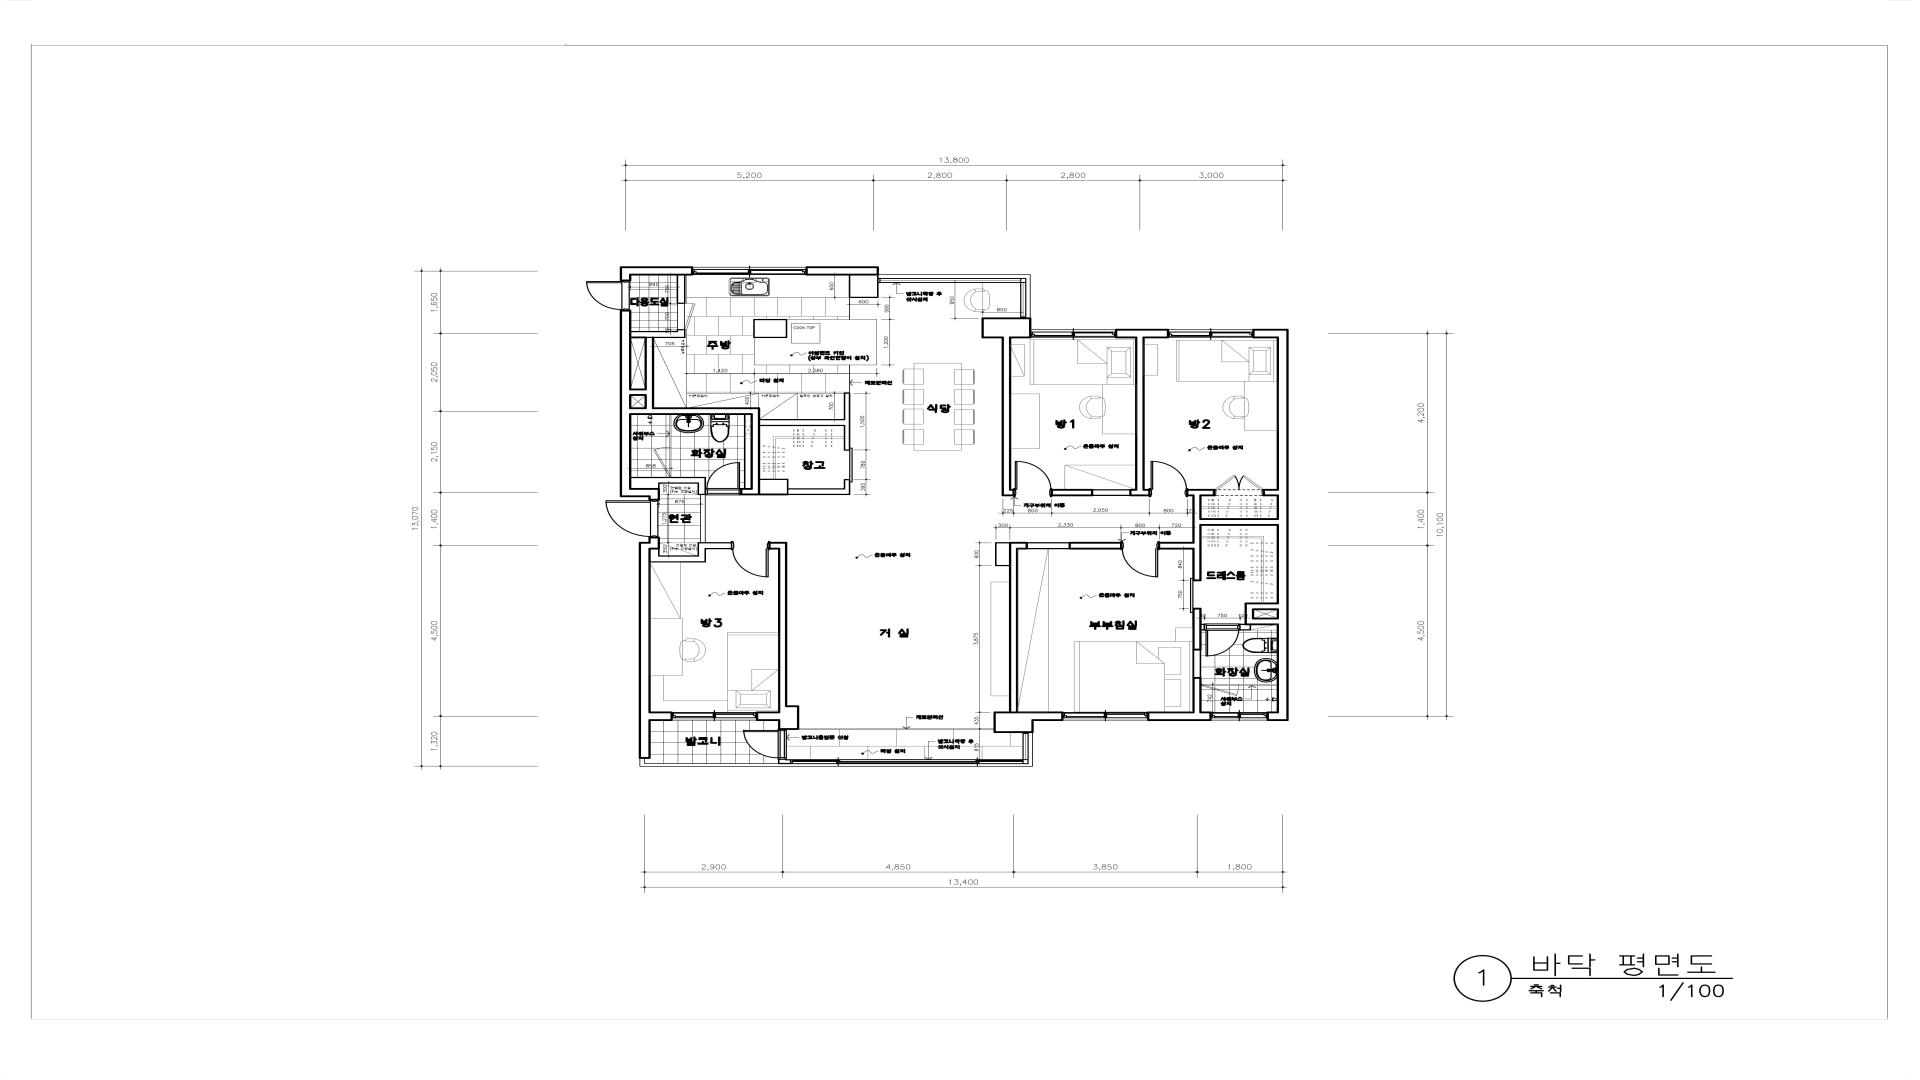door: (605, 500, 658, 537), (1014, 460, 1051, 496), (1121, 542, 1158, 578), (732, 542, 769, 578), (742, 729, 787, 758), (585, 281, 630, 310), (1151, 460, 1187, 496), (705, 462, 740, 496), (1205, 624, 1240, 657), (1216, 475, 1263, 496), (653, 447, 671, 477), (676, 303, 695, 330), (1201, 684, 1238, 696), (1189, 578, 1193, 613), (849, 447, 853, 483)
wall: (638, 537, 977, 766), (996, 542, 1122, 712), (632, 338, 760, 496), (1253, 328, 1288, 721), (806, 266, 1031, 318), (1158, 489, 1276, 582), (981, 318, 1031, 496), (756, 542, 799, 729), (620, 310, 659, 500), (761, 393, 851, 451), (977, 712, 1064, 766), (1129, 339, 1150, 496), (651, 542, 732, 563), (760, 479, 851, 496), (1192, 608, 1205, 711), (632, 477, 705, 495), (620, 266, 694, 281), (1240, 603, 1276, 630), (1147, 711, 1212, 721), (849, 276, 878, 298), (753, 319, 787, 338), (1116, 328, 1168, 339), (1051, 489, 1129, 496), (632, 330, 686, 339), (744, 415, 750, 488), (676, 276, 686, 303), (651, 712, 673, 721), (1022, 733, 1027, 764), (1263, 489, 1276, 496), (778, 758, 791, 764), (1238, 684, 1276, 686), (670, 415, 671, 447)
window: (694, 266, 806, 276), (793, 760, 1022, 764), (1031, 330, 1114, 338), (1170, 330, 1253, 338), (1064, 712, 1147, 720), (673, 712, 756, 720), (1212, 712, 1266, 720)
